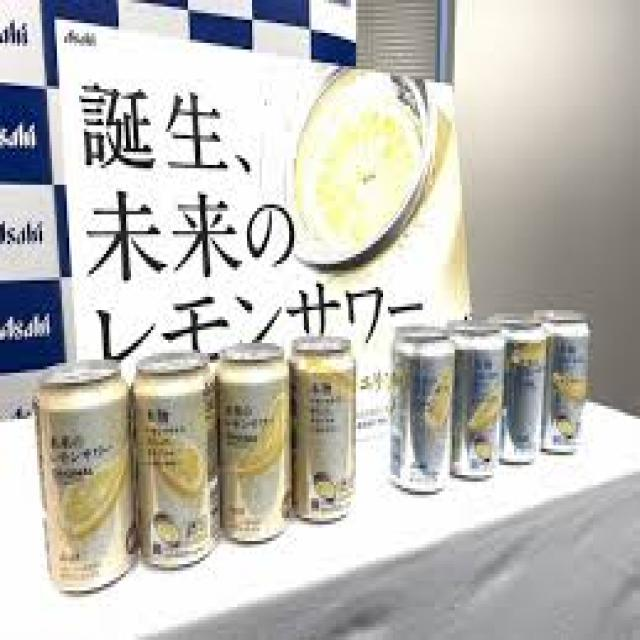Cans: (30, 353, 148, 604), (126, 346, 227, 574), (212, 336, 296, 544), (289, 330, 361, 521), (386, 320, 454, 495), (454, 314, 506, 488), (544, 303, 593, 462), (504, 310, 546, 472)
